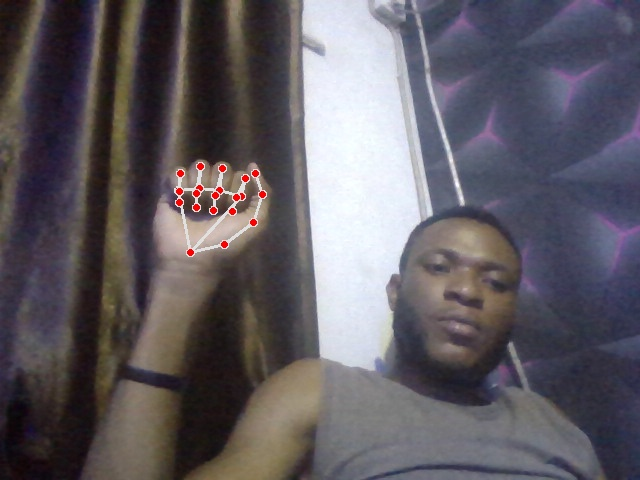number0: (152, 157, 274, 267)
